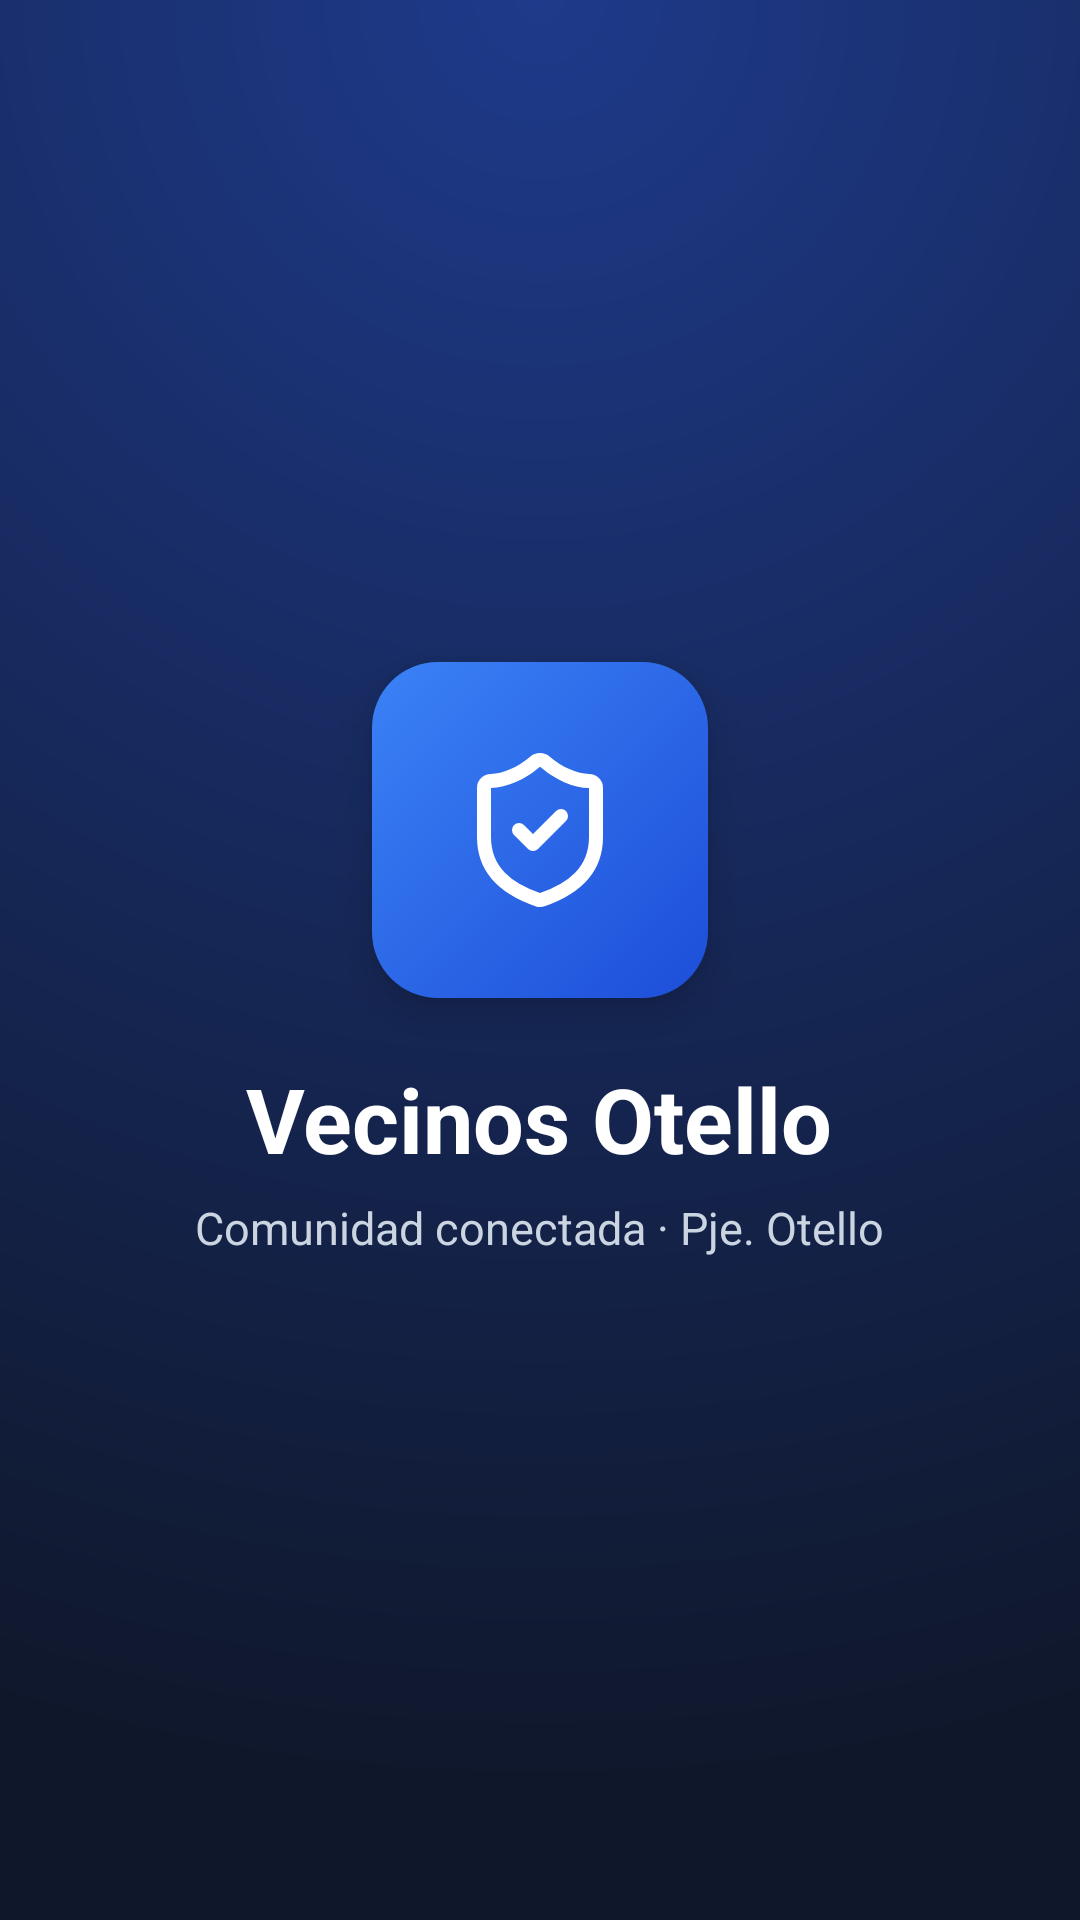

Locate icon controls on the screen. Image size 1080*1920, boxes as box=[x1, y1, x2, y2].
escudo: box=[477, 753, 603, 907]
